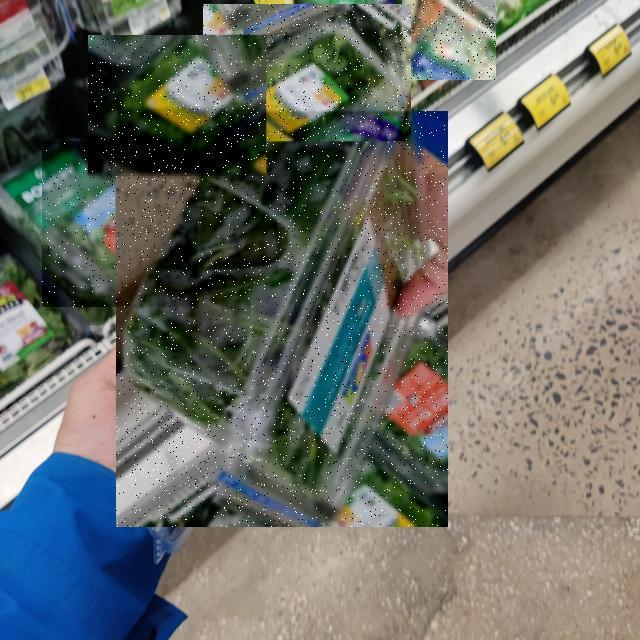Lettuce: (116, 111, 448, 527), (203, 4, 411, 141), (42, 141, 198, 307), (89, 36, 267, 178), (402, 0, 496, 80)
